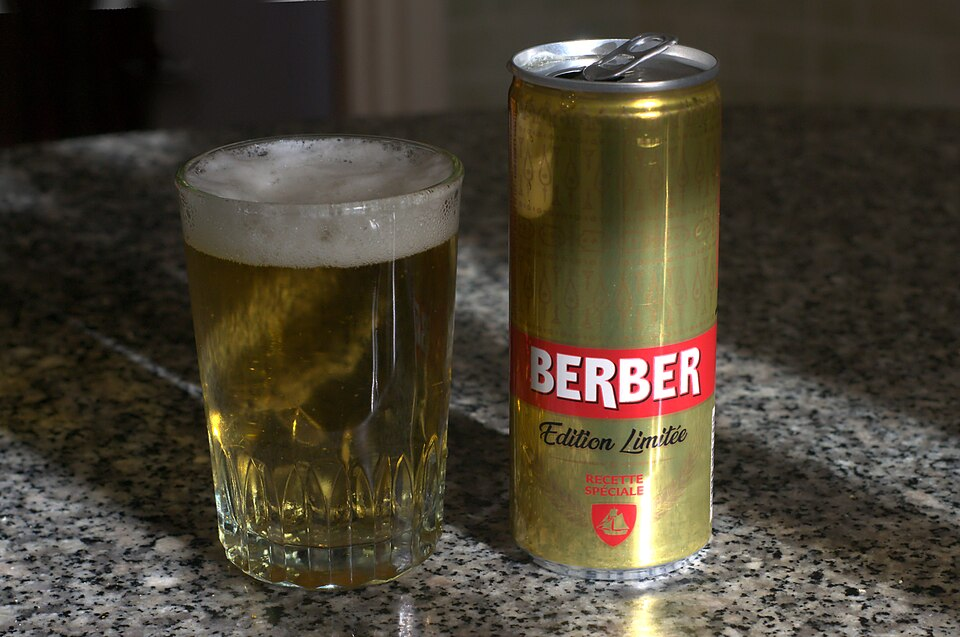beer-can: (499, 32, 726, 591)
